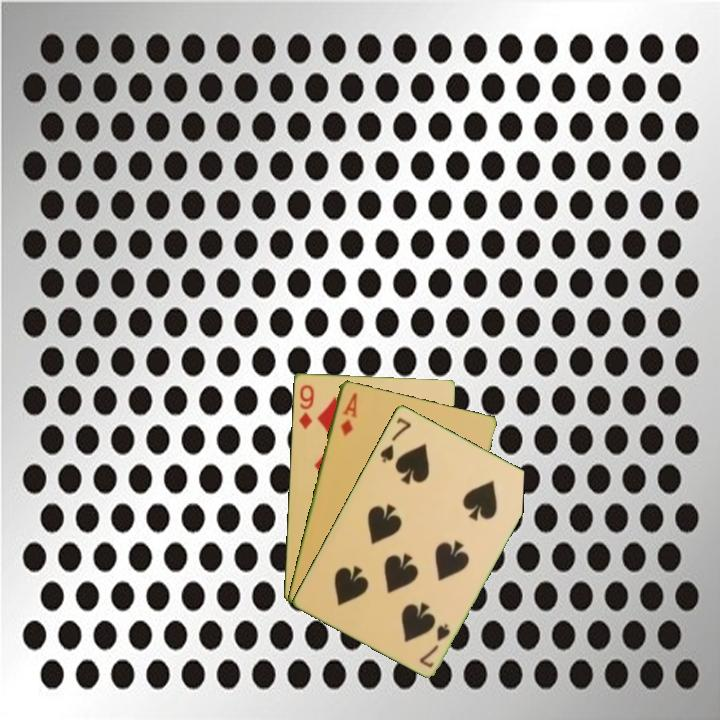7s: (376, 414, 414, 465), (416, 620, 453, 670)
9d: (295, 381, 317, 432)
Ad: (337, 389, 360, 439)
